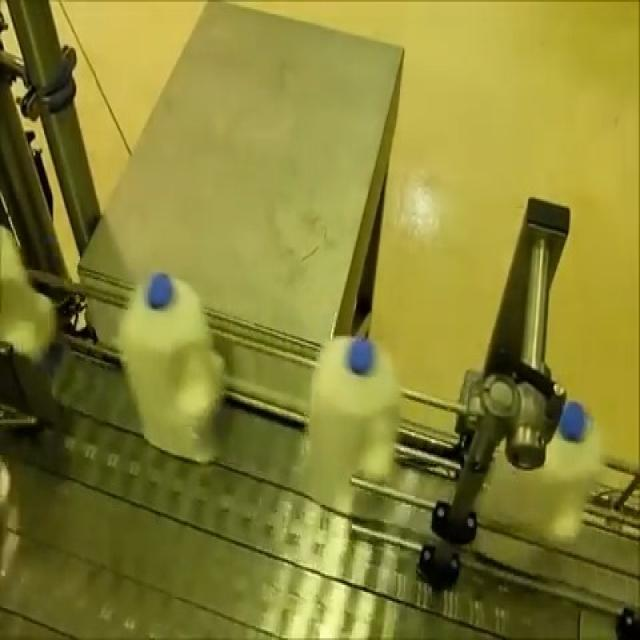milk: (109, 264, 233, 465), (508, 373, 616, 585), (318, 323, 409, 539)
